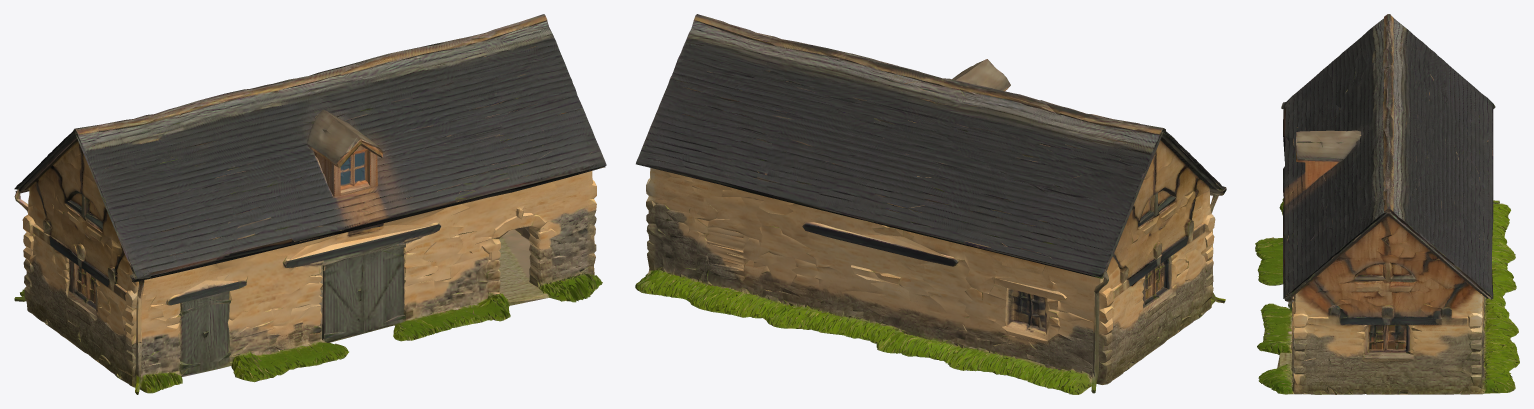
The model's file is country-barn-stone.glb.
3 renders of one model, left to right at view 1: azimuth 30°, elevation 25°; view 2: azimuth 150°, elevation 25°; view 3: azimuth 270°, elevation 25°, orthographic. The views are drawn at different scales.
Size of the model in its own units: 1.89 by 0.844 by 1.08.
Materials: 1 (1 with a texture image).
